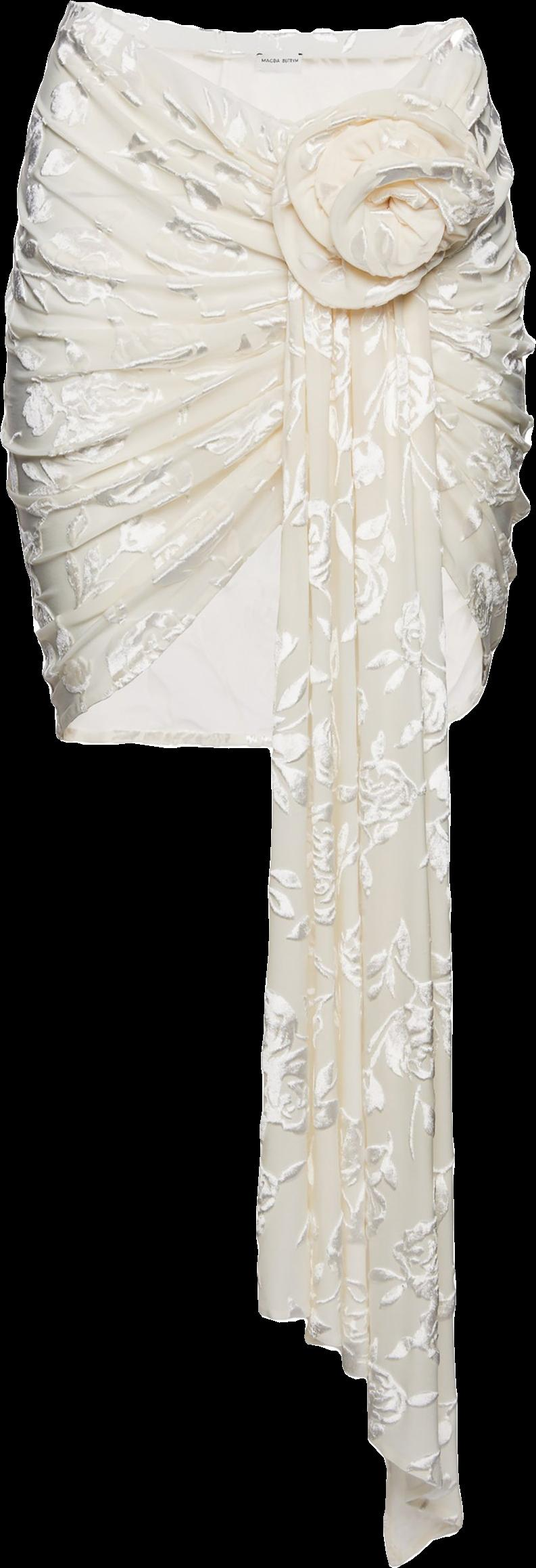Hemline: (52, 510, 491, 740)
Waistline: (66, 0, 459, 133)
